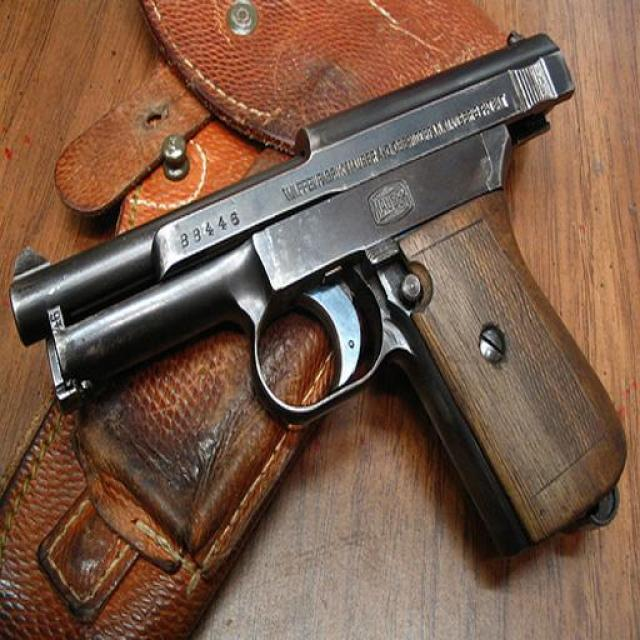pistol: (10, 20, 627, 559)
